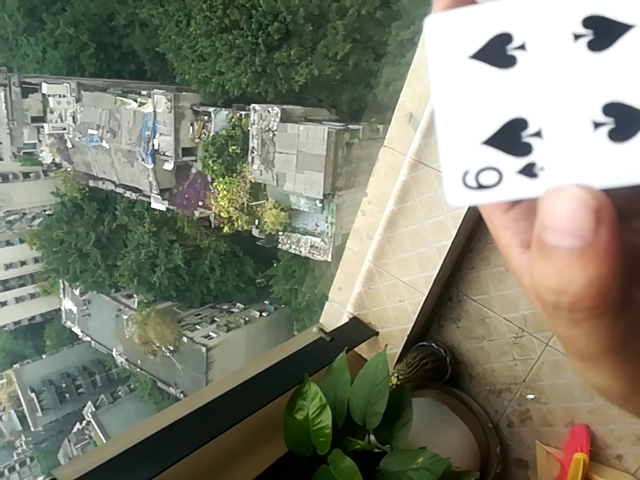ht 6: (415, 0, 637, 211)
